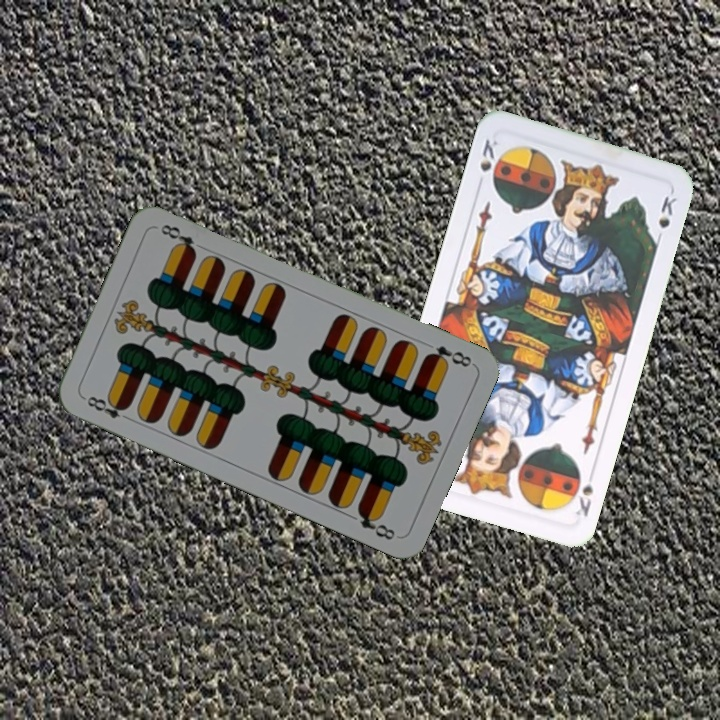E8: (79, 392, 135, 424), (421, 341, 476, 370)
SK: (475, 135, 504, 187), (571, 465, 598, 520)
